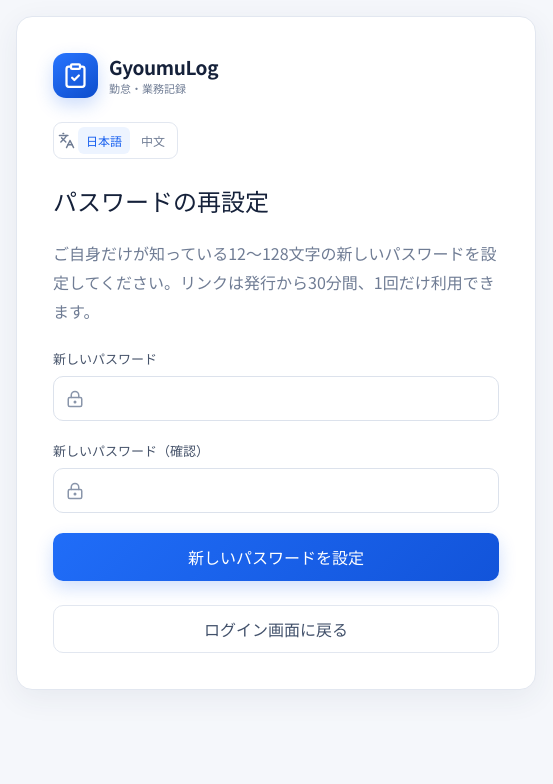
Test: prevents duplicate submission and locks the chosen password for an uncertain retry
The width and height of the screenshot is (553, 784).
In the password field labelled "新しいパスワード": [276, 399] box [53,376,499,421], type "new-password-123"
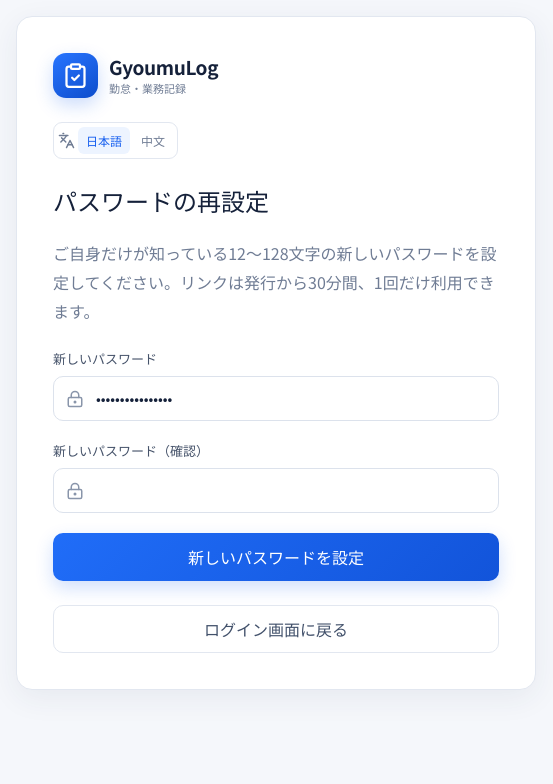
In the password field labelled "新しいパスワード（確認）": [276, 491] box [53,468,499,513], type "new-password-123"
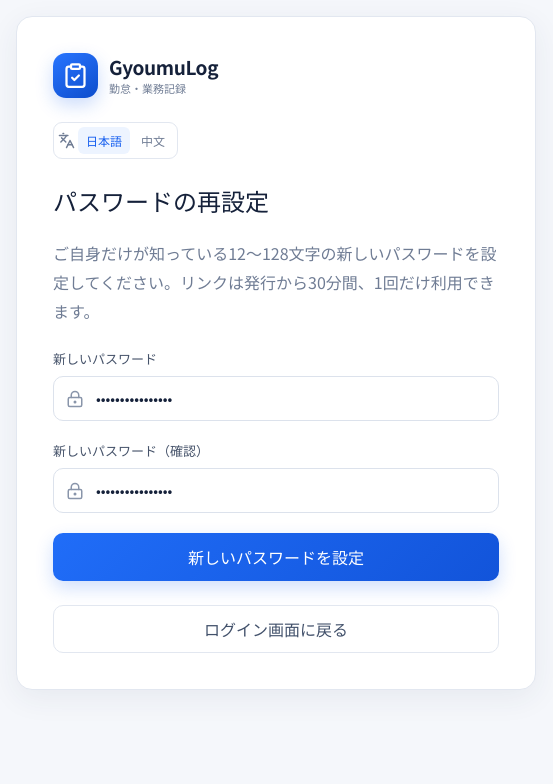
Submit the form labelled "新しいパスワード", box [53,349,499,581]
Submit the form labelled "新しいパスワード", box [53,349,499,581]
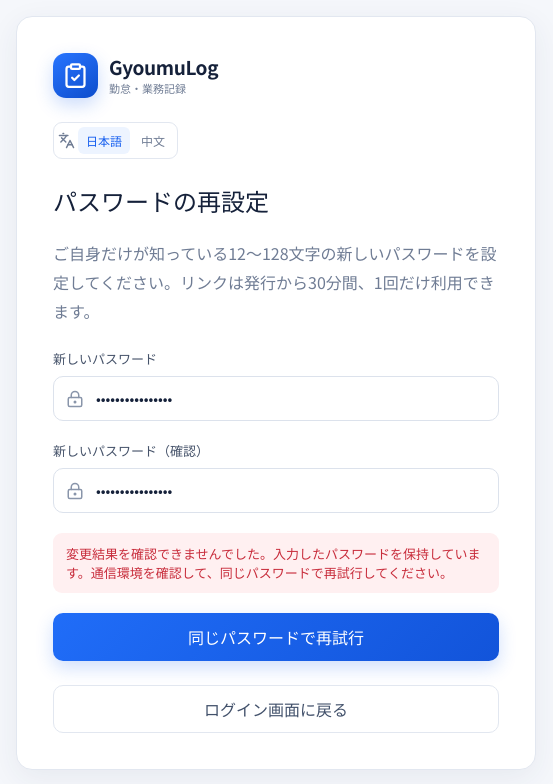
Expected: the message does not show "private-secret", [53,533,499,593]
Expected: the message shows "同じパスワードで再試行", [66,544,481,582]
Click the button "同じパスワードで再試行": [276, 637] box [53,613,499,661]
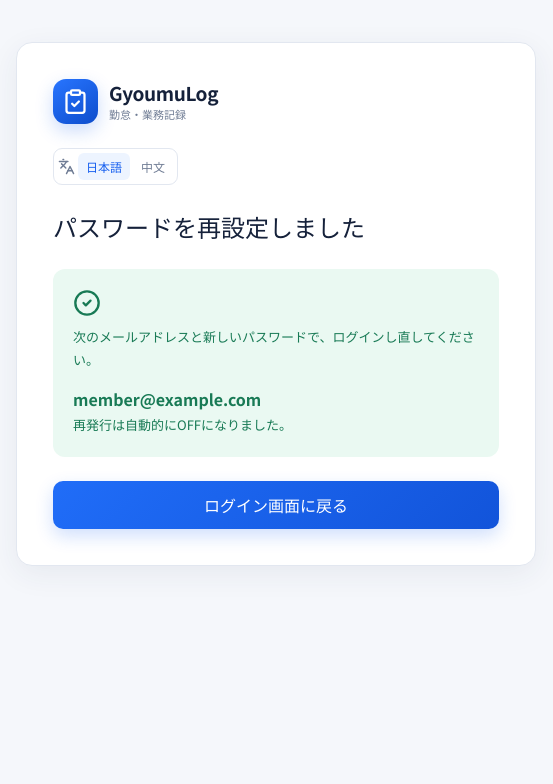
Expected: the message "次のメールアドレスと新しいパスワードで、ログインし直してください。 member@example.com 再発行は自動的にOFFになりました。" is shown, [53,269,499,457]
